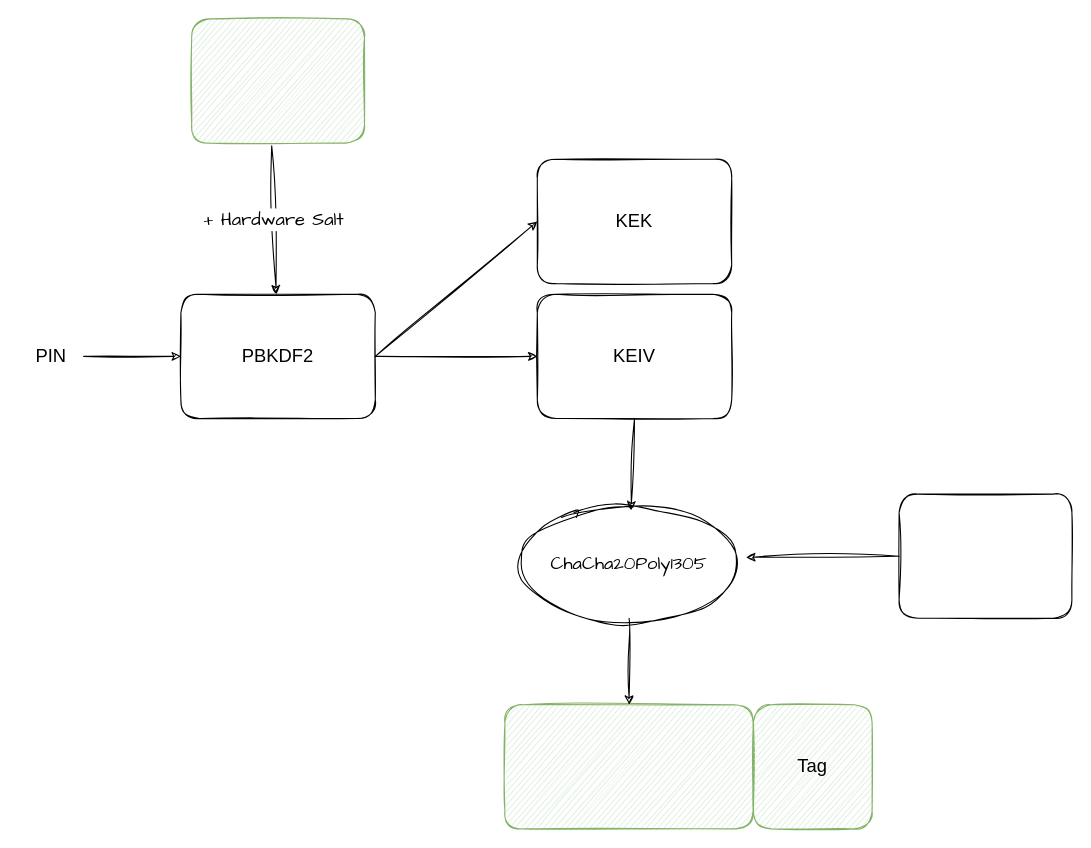
Some shapes in this 1091 by 848 pixel diagram are drawn without their labels. The centre of each missing label's shape, as x and y in pixels:
"Data Encryption Key" belongs at (x=985, y=555).
"Encrypted Data Encryption Key" belongs at (x=628, y=766).
"Random Salt" belongs at (x=277, y=80).
